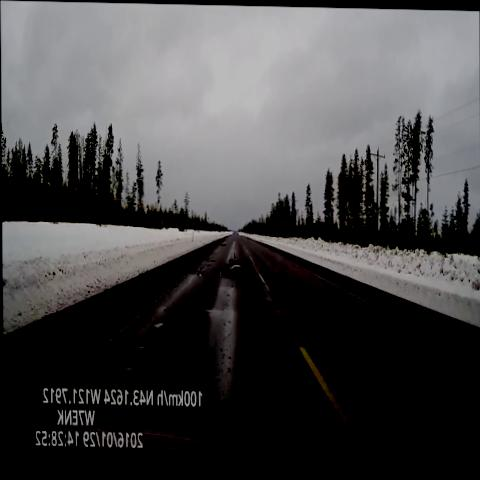pothole: (225, 248, 247, 286), (114, 358, 139, 379), (158, 293, 177, 320), (149, 313, 167, 336), (130, 333, 149, 353), (216, 234, 228, 255), (194, 264, 208, 281)
